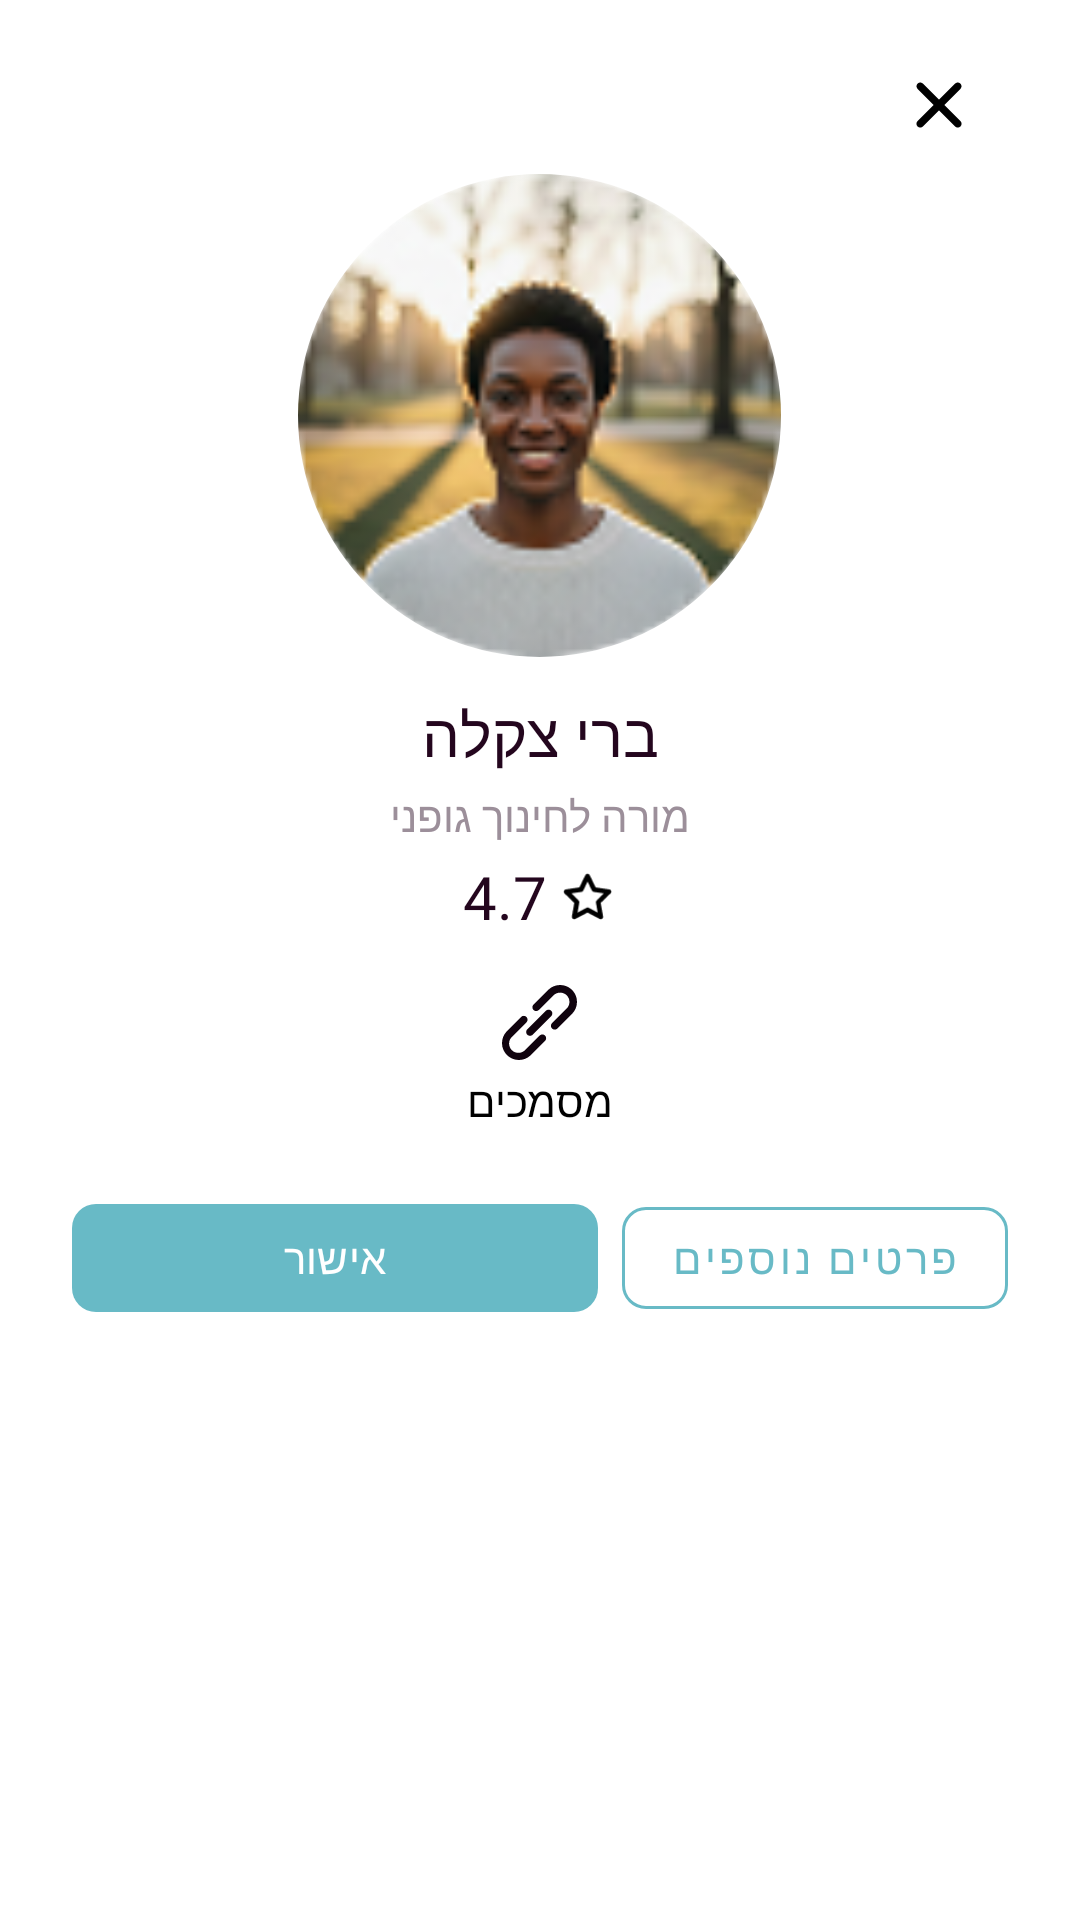

Icons on this 1080w x 1920h Android screen, each with the point to tap as [x,y]:
close: [939,105]
link: [539,1022]
star: [587,896]
